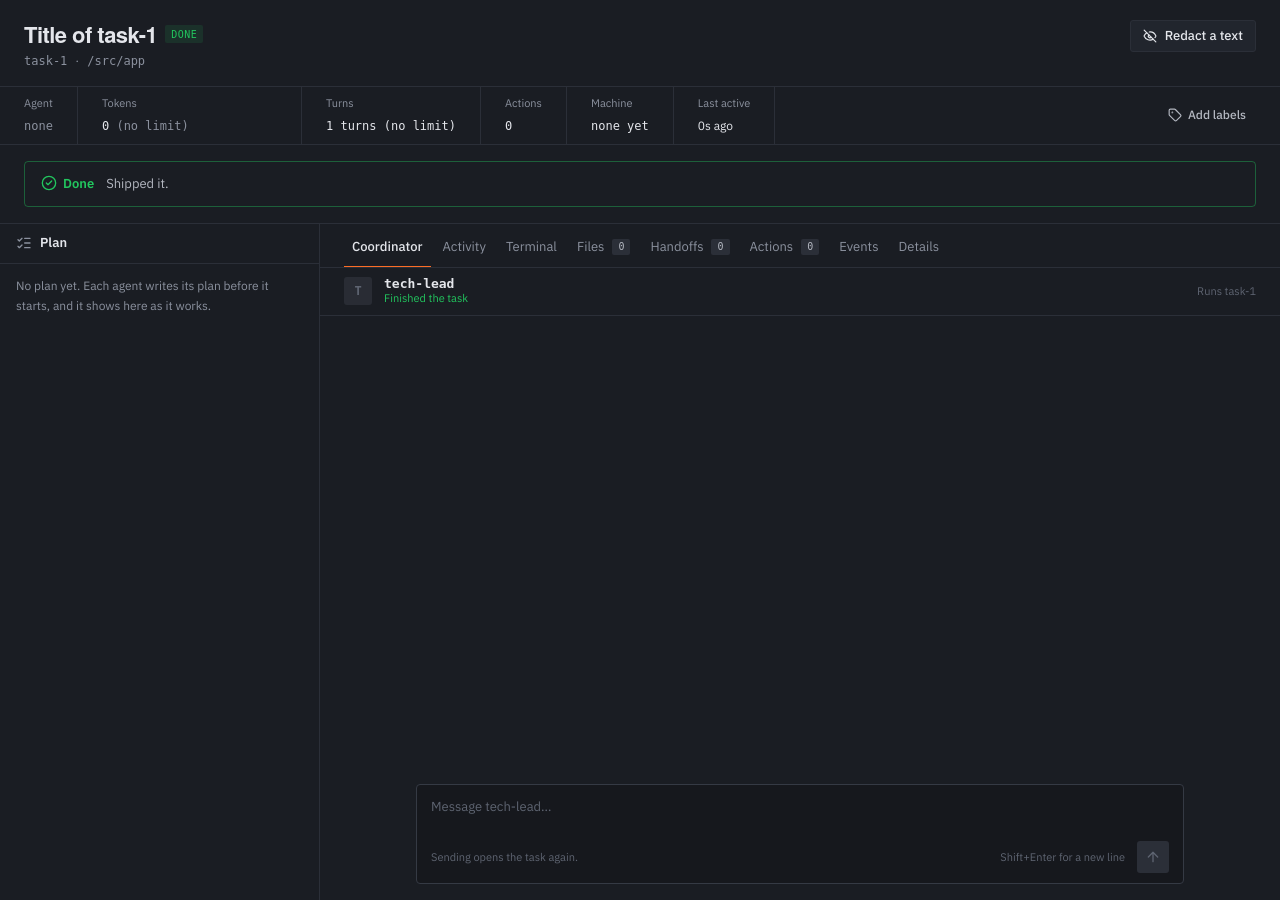
TaskPage redacting a text › asks about the text marked on the page, in a live task
Step 1. Click the button "Redact a text" → coordinates (1193, 36), box [1130,20,1256,52]
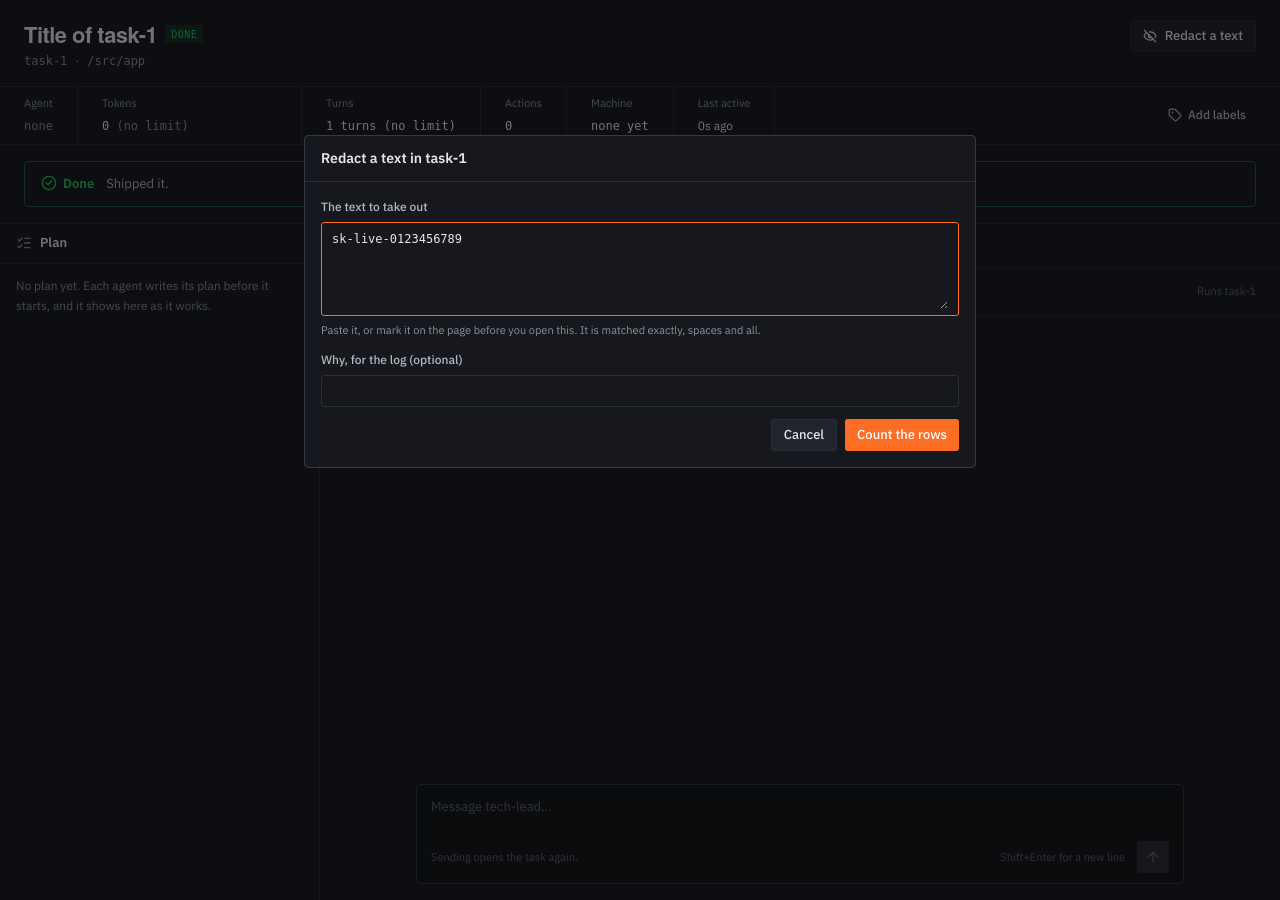
Result: the dialog "Redact a text in task-1" is shown at [304,135,976,468]
Result: the text box labelled "The text to take out" holds "sk-live-0123456789" at [332,229,948,309]
